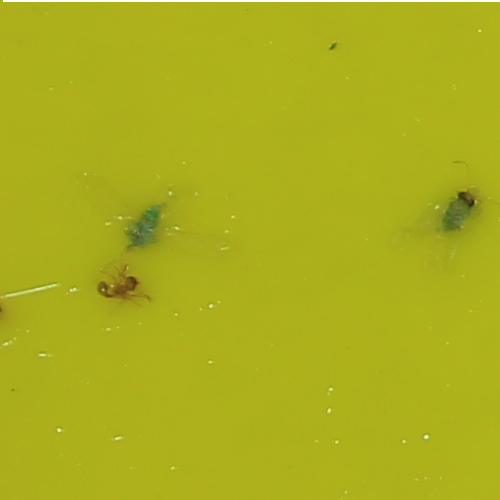Glycaspis: (124, 201, 166, 251), (440, 189, 477, 233)
